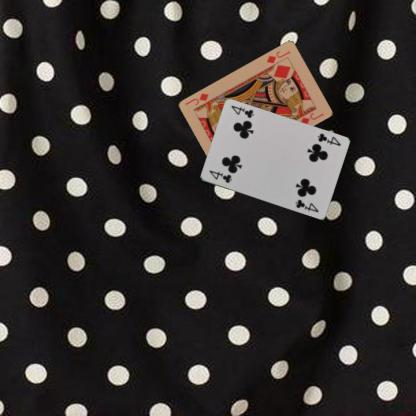4c: (314, 130, 342, 147), (206, 168, 233, 184)
Jd: (264, 48, 291, 64)
